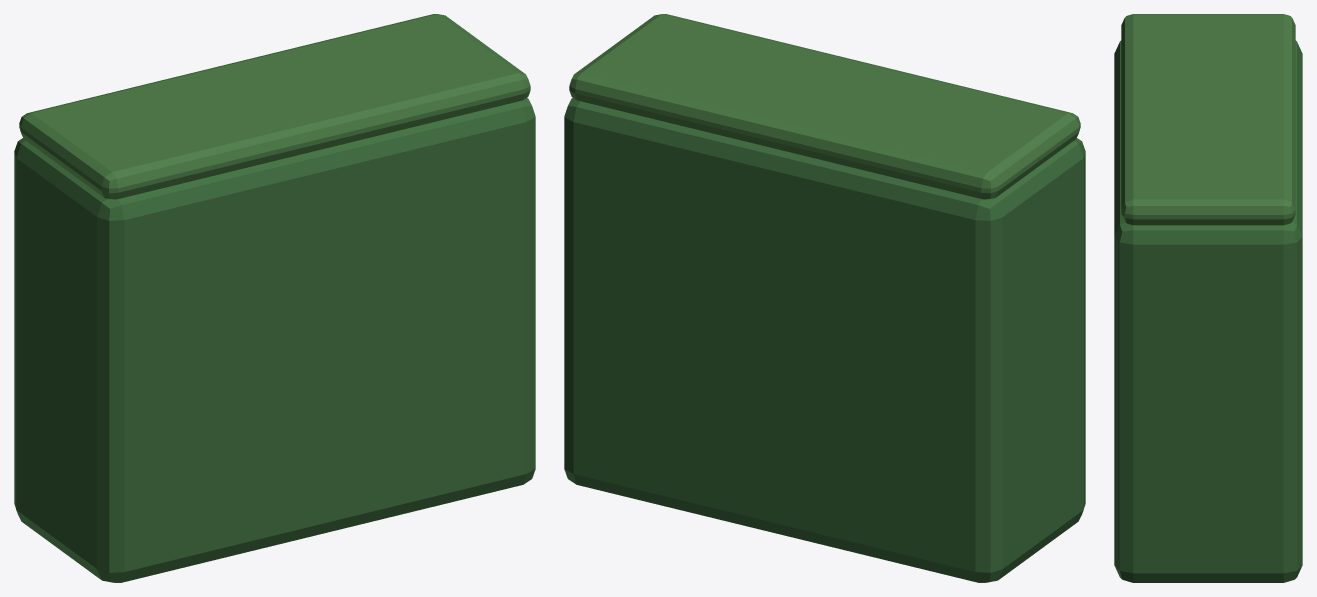
The model's file is Hedge.glb.
The picture shows the model from 3 angles, left to right: view 1: azimuth 30°, elevation 25°; view 2: azimuth 150°, elevation 25°; view 3: azimuth 270°, elevation 25°; orthographic projection. The views are drawn at different scales.
Parts seen in each view (by area): view 1: Hedge; view 2: Hedge; view 3: Hedge.
Part boxes in pixels (x1,y1,x2,y2): Hedge: (14,14,535,582); Hedge: (564,14,1085,582); Hedge: (1114,14,1302,582).
Size of the model in its own units: 2 by 1.8 by 0.8.
